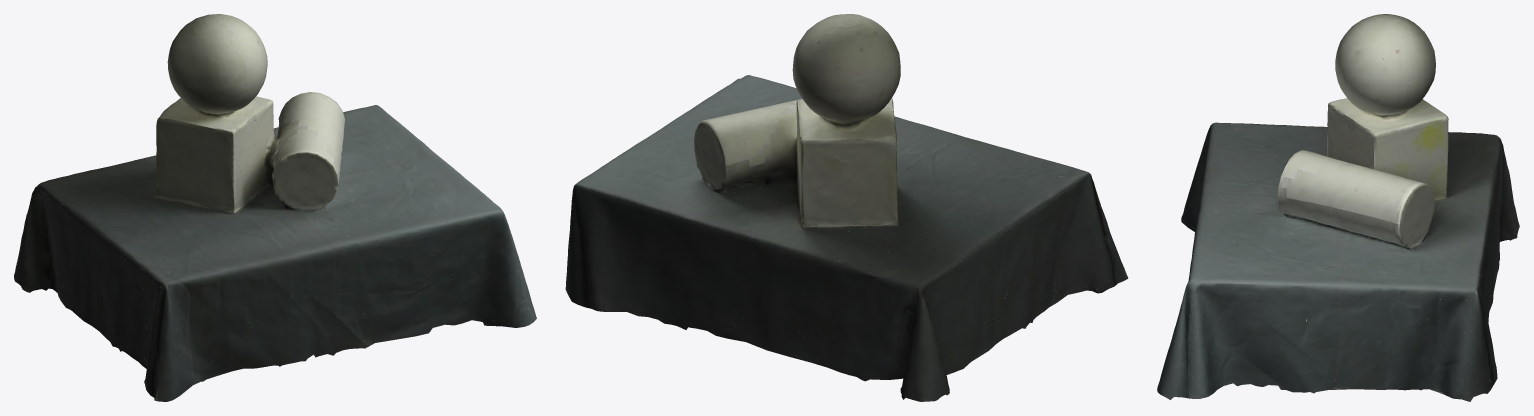
Rendered from 静物_几何体_球方柱01_opt.glb.
3 views of the same model, side by side, from view 1: azimuth 30°, elevation 25°; view 2: azimuth 150°, elevation 25°; view 3: azimuth 270°, elevation 25° (orthographic). The views are drawn at different scales.
Parts seen in each view (by area): view 1: defaultMat, defaultMat_1; view 2: defaultMat, defaultMat_1; view 3: defaultMat, defaultMat_1.
Boxes of the visible parts, x1,y1,x2,y2 form: defaultMat: (14, 14, 536, 401); defaultMat_1: (24, 18, 533, 396); defaultMat: (565, 14, 1128, 401); defaultMat_1: (574, 15, 1114, 401); defaultMat: (1157, 14, 1519, 401); defaultMat_1: (1160, 17, 1519, 399).
Size of the model in its own units: 0.4318 by 0.3 by 0.3545.
Materials: 1 (1 with a texture image).
